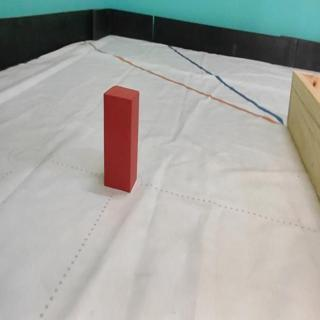redbox: (103, 84, 138, 193)
